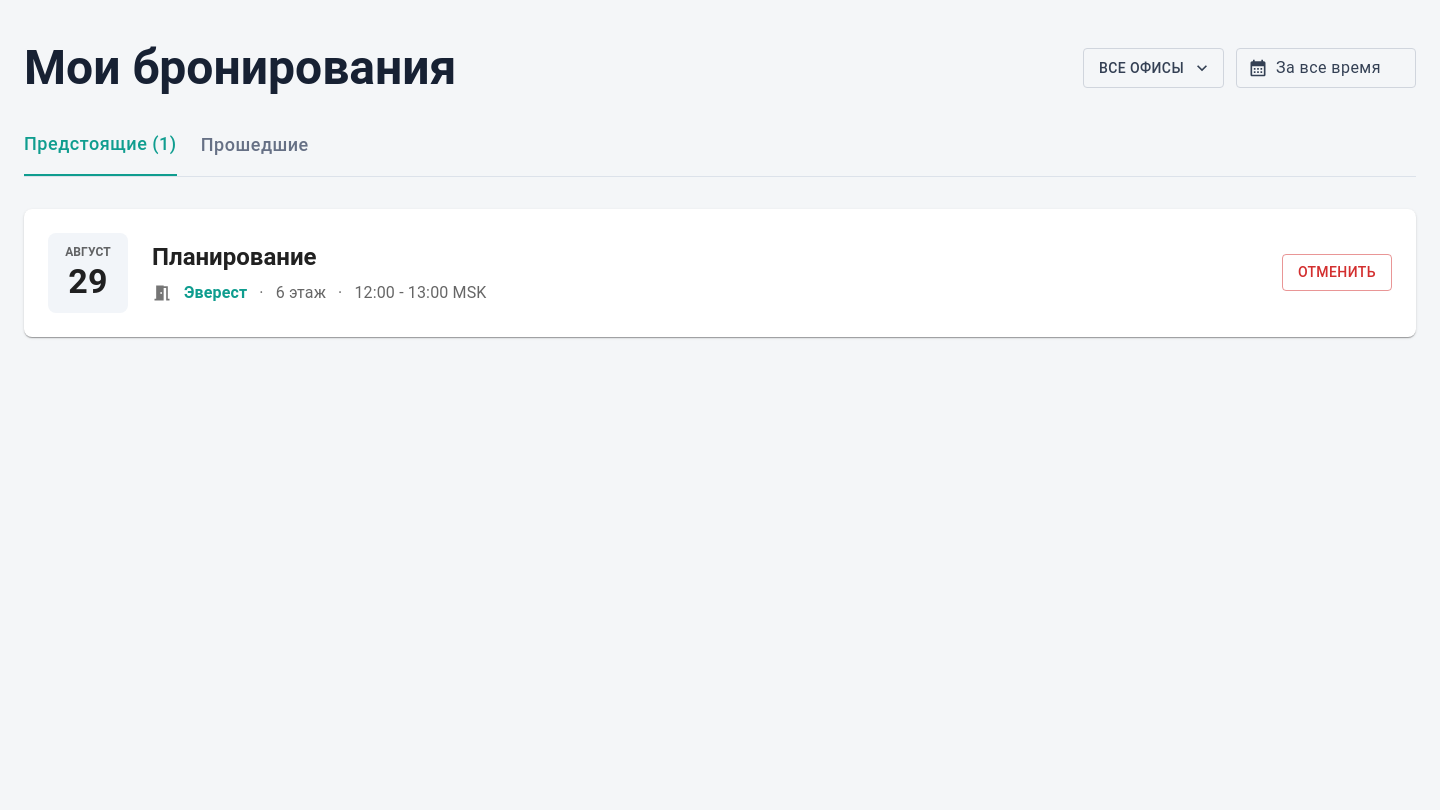
Scenario: BookingsPage › cancels upcoming booking
Check: the heading "Планирование" is shown, box [152,242,316,270]
Click the button "Отменить".
click(1337, 273)  # box [1282,254,1392,291]
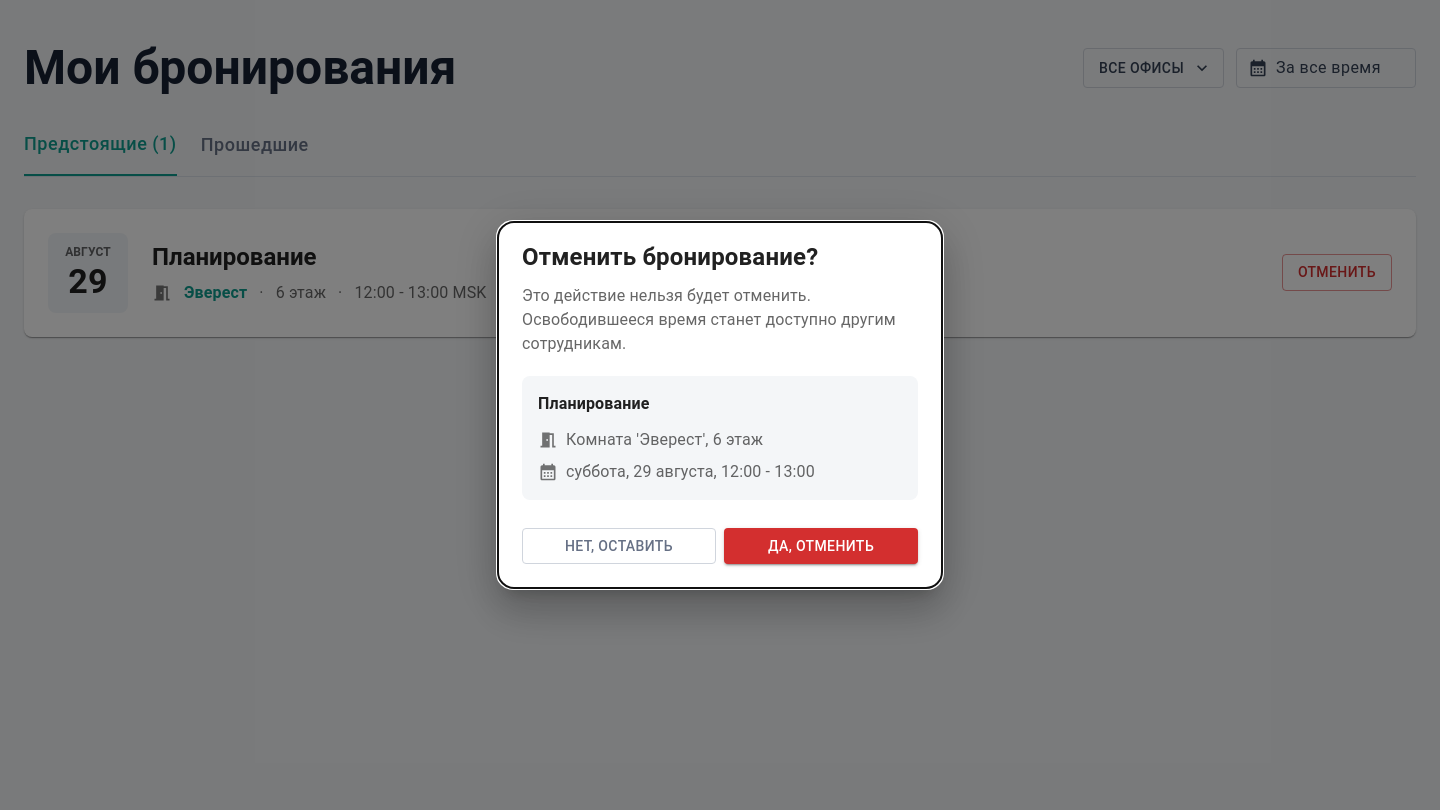
Click the button "Да, отменить".
click(821, 546)  # box [724,528,918,564]
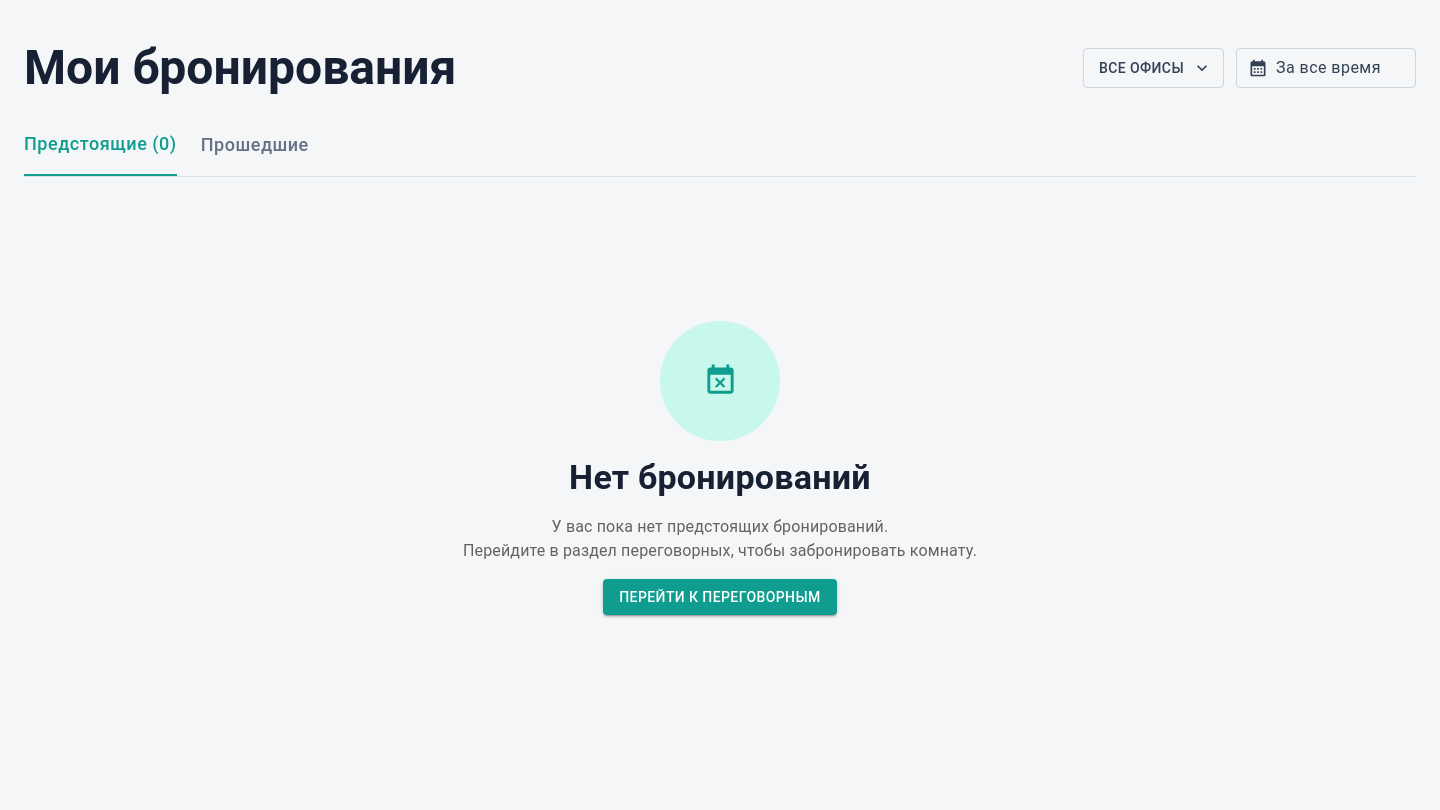
Check: the heading "Планирование" is gone
